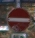No entry: (5, 5, 30, 33)
